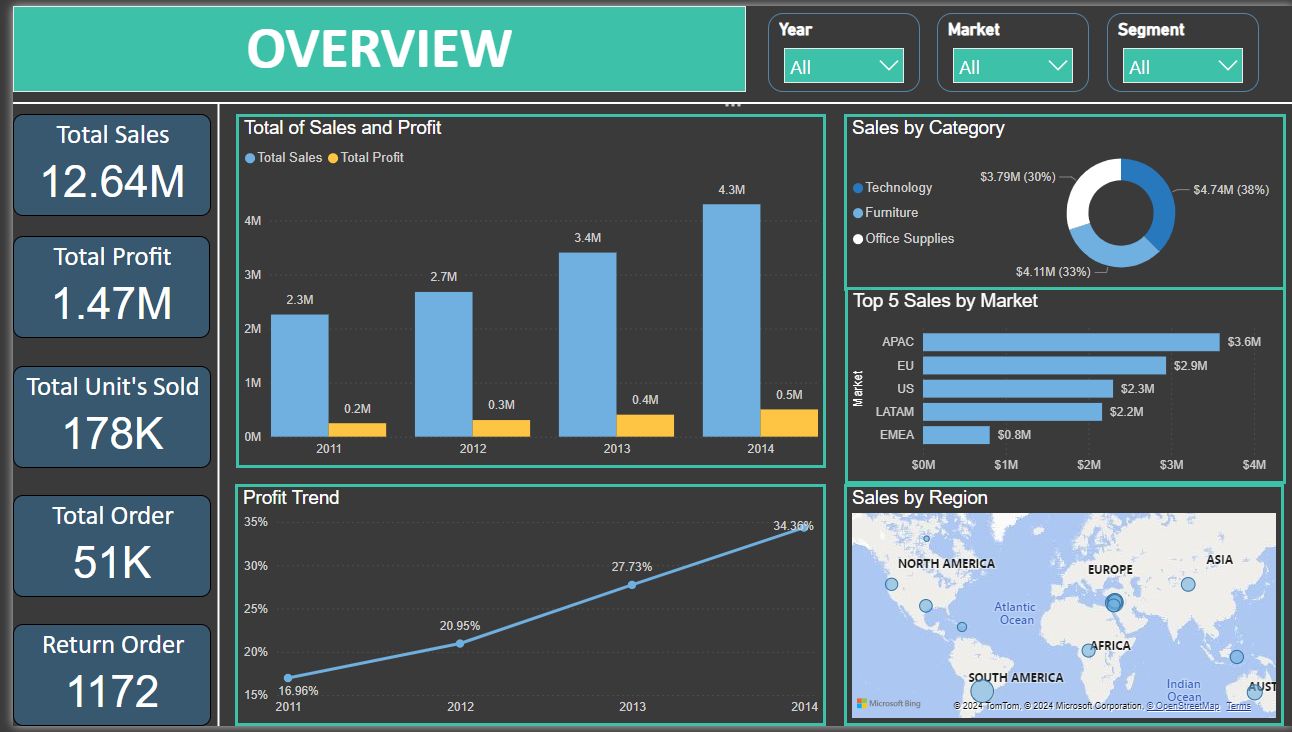

The dashboard page shown, as its layout file describes it:
{"tool":"powerbi","page":{"name":"Overview","canvas":[1280,720],"ordinal":0},"visuals":[{"type":"textbox","box":[0,0,732.7,85.7],"z":0},{"type":"lineClusteredColumnComboChart","title":"Total of Sales and Profit","fields":{"Category":["Orders.Order Date Hierarchy.Year","Orders.Order Date Hierarchy.Quarter","Orders.Order Date Hierarchy.Month","Orders.Order Date Hierarchy.Day"],"Y":["_Measure.Total Sales","_Measure.Total Profit"]},"box":[222.7,107.8,590.6,353.8],"z":1000},{"type":"card","title":"Total Sales","fields":{"Values":["_Measure.Total Sales"]},"box":[0,108.3,197.8,101.3],"z":2000},{"type":"card","title":"Total Unit''s Sold","fields":{"Values":["_Measure.Total Quantity"]},"box":[0,359.8,197.5,101.8],"z":3000},{"type":"card","title":"Total Profit","fields":{"Values":["_Measure.Total Profit"]},"box":[0,229.8,196.5,101.8],"z":4000},{"type":"slicer","title":"Year","fields":{"Values":["Orders.Order Date Hierarchy.Year"]},"box":[754.9,7.1,152.2,78.6],"z":5000},{"type":"slicer","title":"Market","fields":{"Values":["Orders.Market"]},"box":[924.2,7.1,152.2,78.6],"z":6000},{"type":"card","title":"Total Order","fields":{"Values":["_Measure.Total Order"]},"box":[0,488.8,197.5,101.8],"z":7000},{"type":"card","title":"Return Order","fields":{"Values":["_Measure.Return Order"]},"box":[0,617.8,197.5,101.8],"z":8000},{"type":"slicer","title":"Segment","fields":{"Values":["Orders.Segment"]},"box":[1093.5,7.1,152.2,78.6],"z":9000},{"type":"lineChart","title":"Profit Trend","fields":{"Y":["_Measure.Total Profit"],"Category":["Orders.Order Date Hierarchy.Year","Orders.Order Date Hierarchy.Quarter","Orders.Order Date Hierarchy.Month","Orders.Order Date Hierarchy.Day"]},"box":[221.7,477.7,591.6,241.9],"z":10000},{"type":"donutChart","title":"Sales by Category","fields":{"Category":["Orders.Category"],"Y":["Sum(Orders.Sales)"]},"box":[831.5,107.8,441.4,177.4],"z":11000},{"type":"shape","box":[0,77.6,1280,38.3],"z":12000},{"type":"shape","box":[188.5,96.8,34.3,622.9],"z":13000},{"type":"map","title":"Sales by Region","fields":{"Size":["Sum(Orders.Sales)"],"Category":["Orders.Region"]},"box":[830.6,478.3,440.9,241.3],"z":14000},{"type":"clusteredBarChart","title":"Top 5 Sales by Market","fields":{"Category":["Orders.Market"],"Y":["Sum(Orders.Sales)"]},"box":[831.6,280.8,440.9,197.5],"z":15000}]}

Visuals, with their boxes in screenshot pixels (x1, y1, x2, y2), scaled from the page's 1280x720 canvas onto the 1292x732 screenshot:
textbox: 0 0 740 87
"Total of Sales and Profit" lineClusteredColumnComboChart: 225 110 821 469
"Total Sales" card: 0 110 200 213
"Total Unit''s Sold" card: 0 366 199 469
"Total Profit" card: 0 234 198 337
"Year" slicer: 762 7 916 87
"Market" slicer: 933 7 1086 87
"Total Order" card: 0 497 199 600
"Return Order" card: 0 628 199 731
"Segment" slicer: 1104 7 1257 87
"Profit Trend" lineChart: 224 486 821 731
"Sales by Category" donutChart: 839 110 1285 290
shape: 0 79 1291 118
shape: 190 98 225 731
"Sales by Region" map: 838 486 1283 731
"Top 5 Sales by Market" clusteredBarChart: 839 285 1284 486
